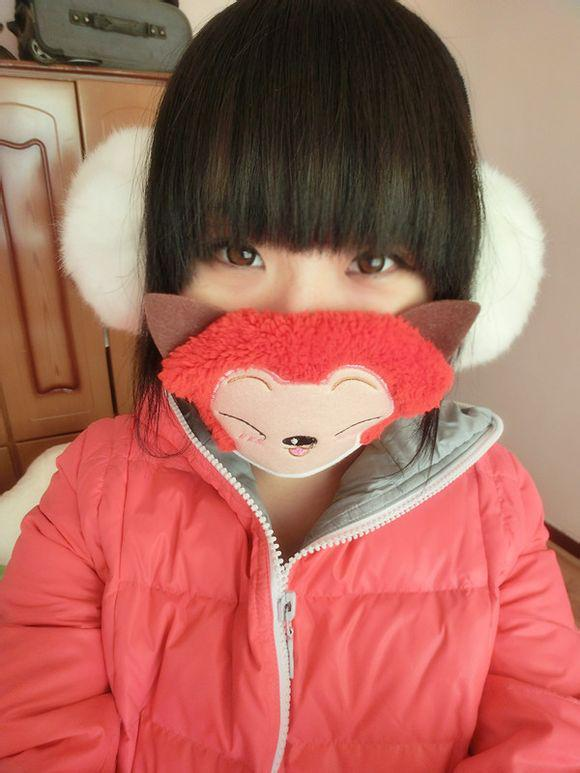OK: (171, 197, 437, 463)
